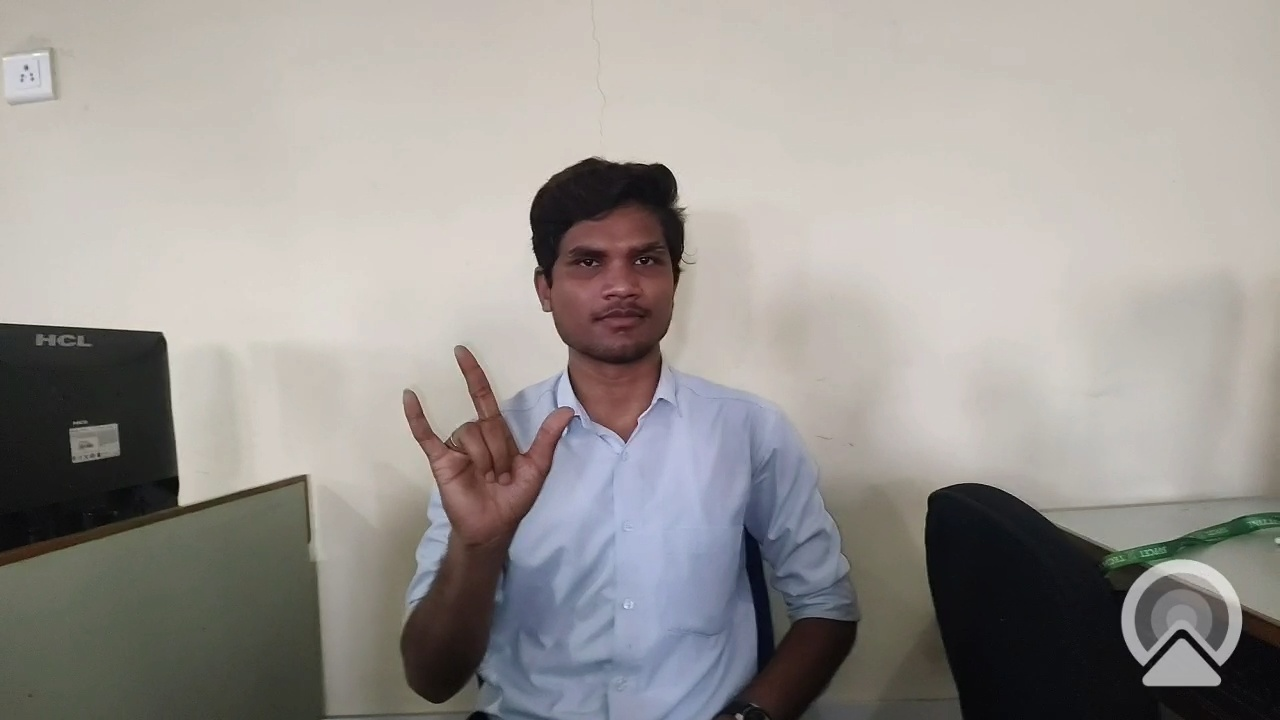I love you: (388, 338, 585, 565)
